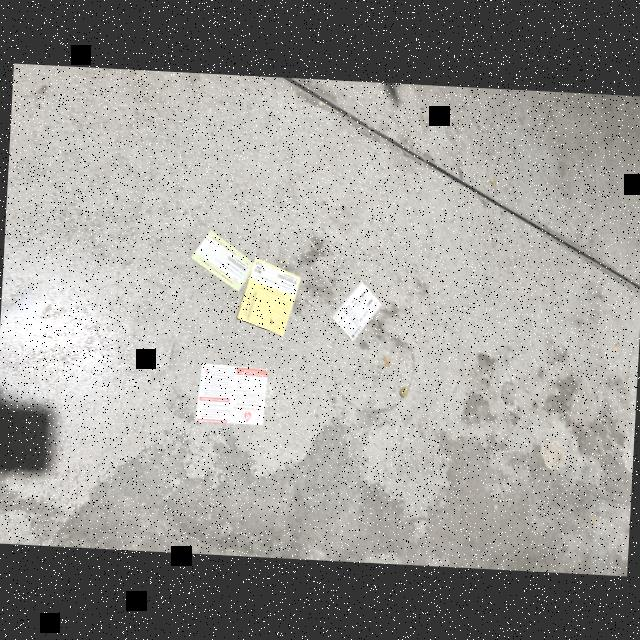scrap_paper: (187, 351, 273, 436), (233, 250, 300, 338), (326, 268, 388, 346), (193, 228, 257, 298)
